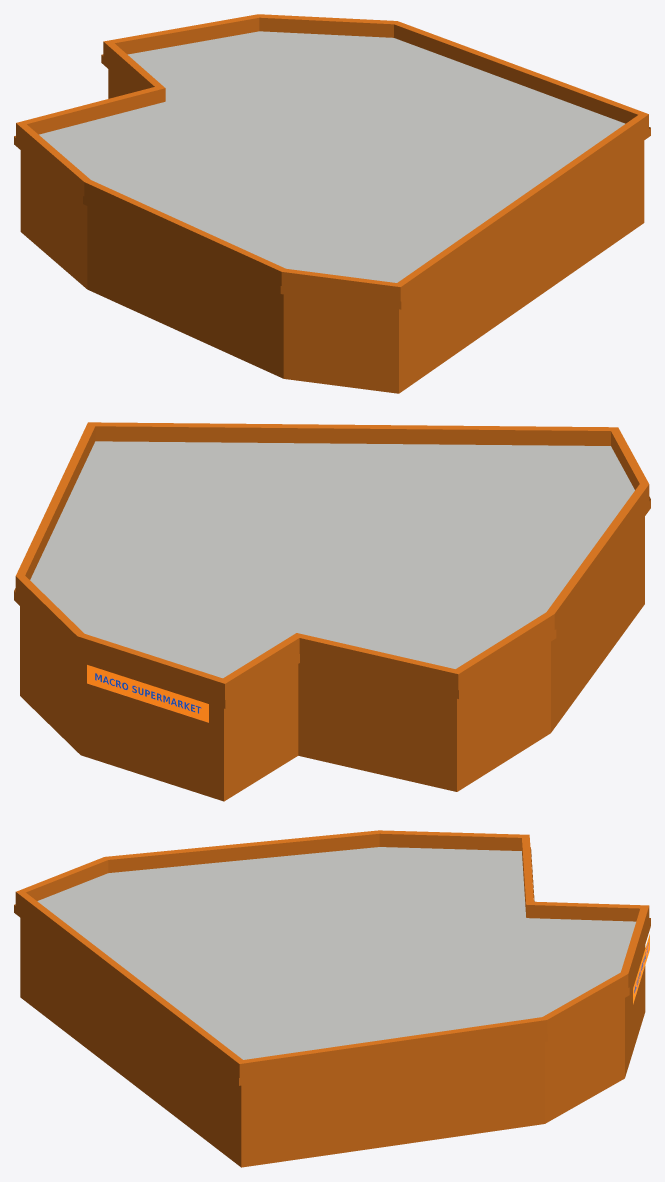
File: macro.glb
The picture shows the model from 3 angles, top to bottom: view 1: azimuth 30°, elevation 25°; view 2: azimuth 150°, elevation 25°; view 3: azimuth 270°, elevation 25°; orthographic projection. The views are drawn at different scales.
Parts seen in each view (by area): view 1: macro_lod0; view 2: macro_lod0; view 3: macro_lod0.
Part boxes in pixels (box(x1,y1,x2,y2)): macro_lod0: box(14, 14, 650, 393); macro_lod0: box(14, 422, 650, 801); macro_lod0: box(14, 830, 650, 1167).
Size of what is drawn, in the model's own units: 38.28 by 8 by 43.83.
4 materials, 2 textured.
